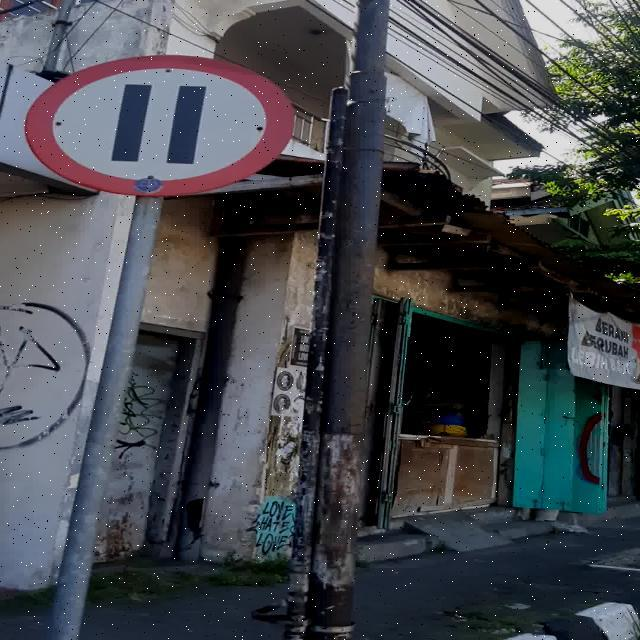Larangan Muatan - 10 ton: (24, 55, 294, 196)
